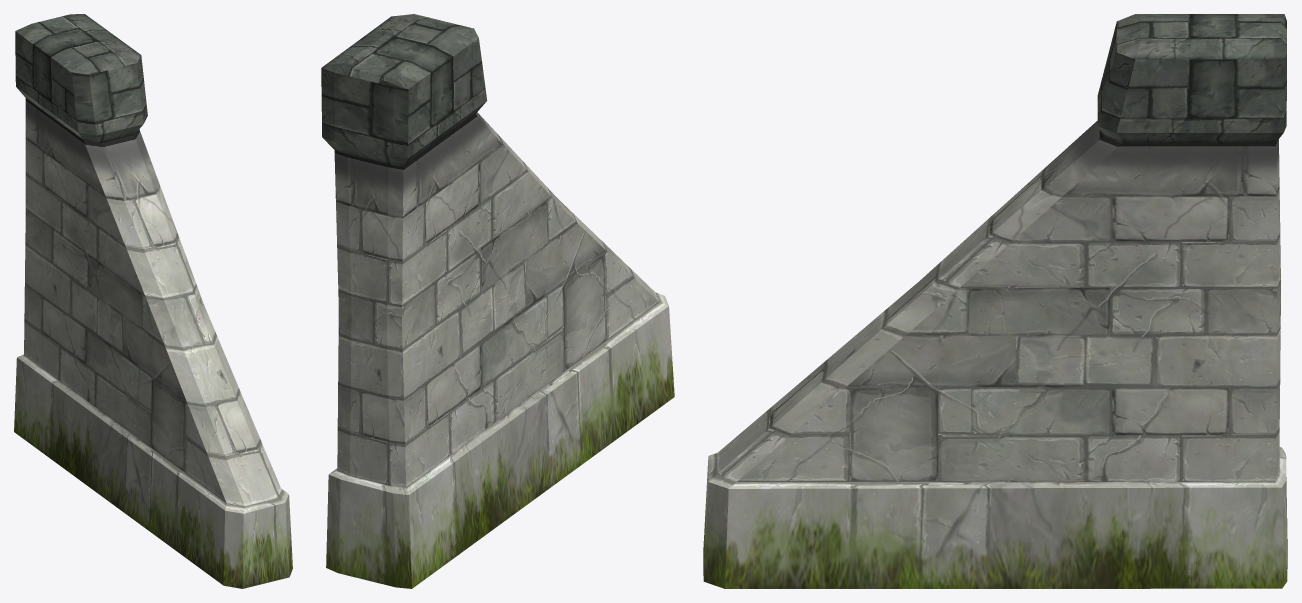
The model's file is Ramp_01.FBX.
The picture shows the model from 3 angles, left to right: view 1: azimuth 30°, elevation 25°; view 2: azimuth 150°, elevation 25°; view 3: azimuth 270°, elevation 25°; orthographic projection. The views are drawn at different scales.
Parts seen in each view (by area): view 1: Ramp_01; view 2: Ramp_01; view 3: Ramp_01.
Part boxes in pixels (<box>): Ramp_01: <box>14,14,292,588</box>; Ramp_01: <box>321,14,674,588</box>; Ramp_01: <box>703,14,1287,588</box>.
Bounding box in the file's own units: 30.6 × 164 × 161.
